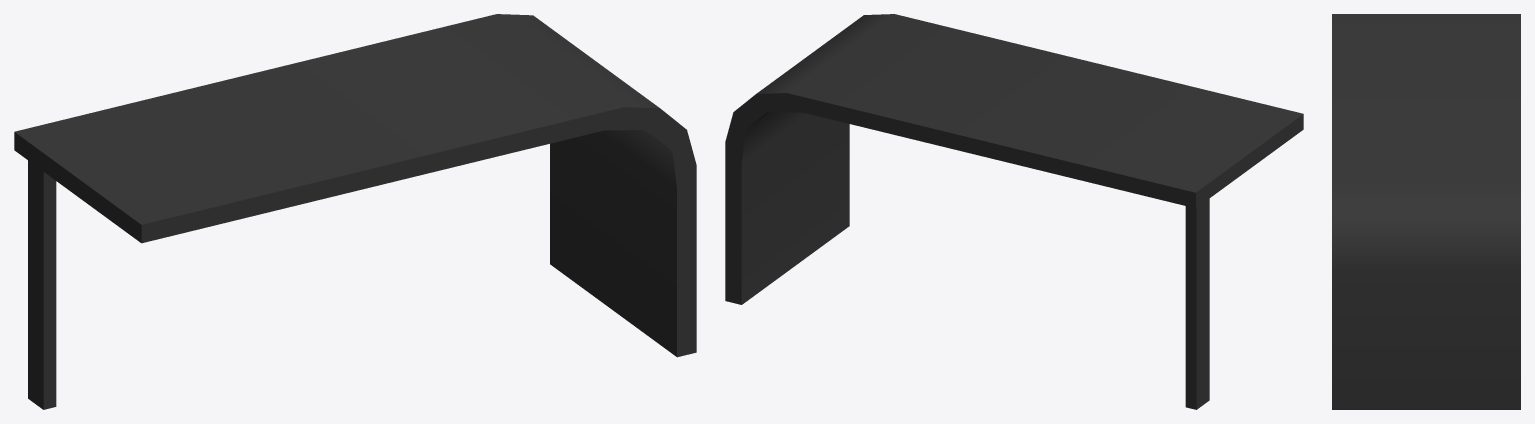
Rendered from desk_5.glb.
The picture shows the model from 3 angles, left to right: view 1: azimuth 30°, elevation 25°; view 2: azimuth 150°, elevation 25°; view 3: azimuth 270°, elevation 25°; orthographic projection. The views are drawn at different scales.
Parts seen in each view (by area): view 1: Desk Modern; view 2: Desk Modern; view 3: Desk Modern.
Boxes of the visible parts, x1=… form: Desk Modern: x1=14, y1=14, x2=696, y2=409; Desk Modern: x1=725, y1=14, x2=1303, y2=409; Desk Modern: x1=1332, y1=14, x2=1520, y2=409.
Bounding box in the file's own units: 2.2 × 0.9955 × 0.8726.
Materials: 1 (1 with a texture image).
